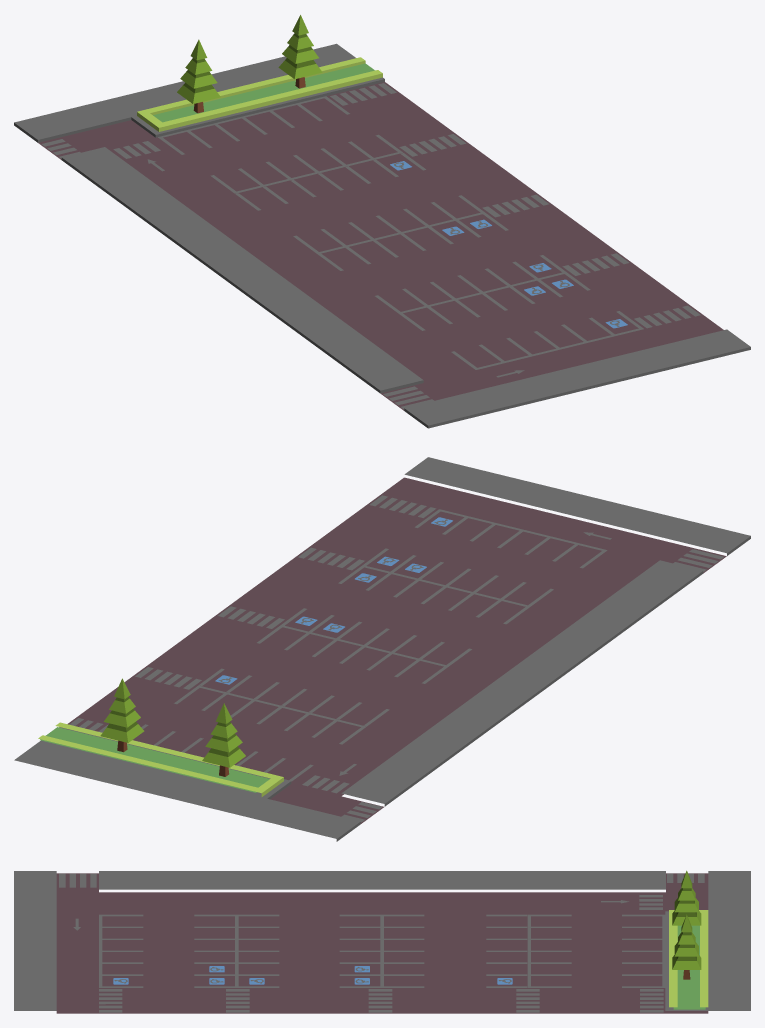
File: parking_lvl_8.FBX
3 views of the same model, one above another, from view 1: azimuth 30°, elevation 25°; view 2: azimuth 150°, elevation 25°; view 3: azimuth 270°, elevation 25° (orthographic). The views are drawn at different scales.
Parts seen in each view (by area): view 1: parking_lvl_8; view 2: parking_lvl_8; view 3: parking_lvl_8.
Boxes of the visible parts, left/top/right/bottom form: parking_lvl_8: left=14, top=15, right=750, bottom=428; parking_lvl_8: left=14, top=457, right=750, bottom=841; parking_lvl_8: left=14, top=870, right=750, bottom=1013.
Size of the model in its own units: 5851 by 1325 by 13000.
